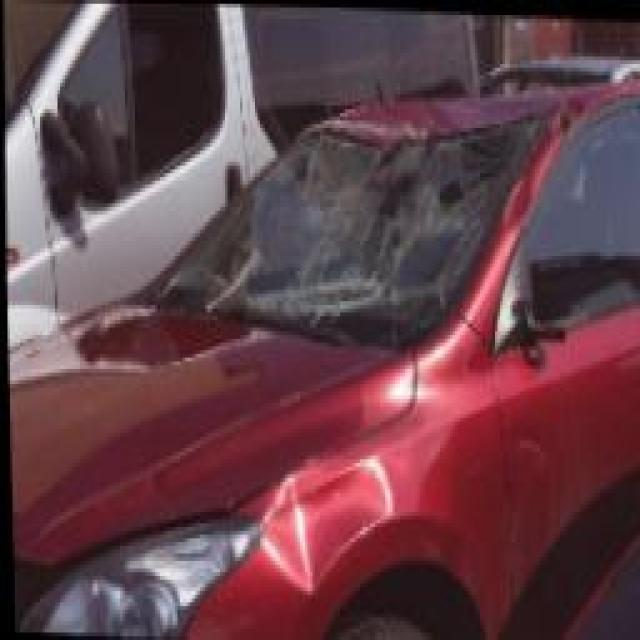Fender: (258, 440, 423, 590)
Windshield: (155, 102, 527, 338)
